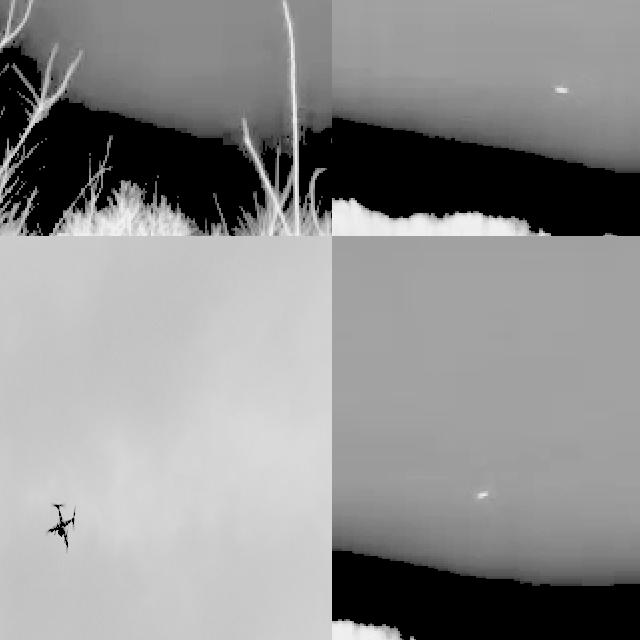1: (466, 484, 500, 518), (545, 78, 579, 108)
drone: (43, 494, 83, 552)
